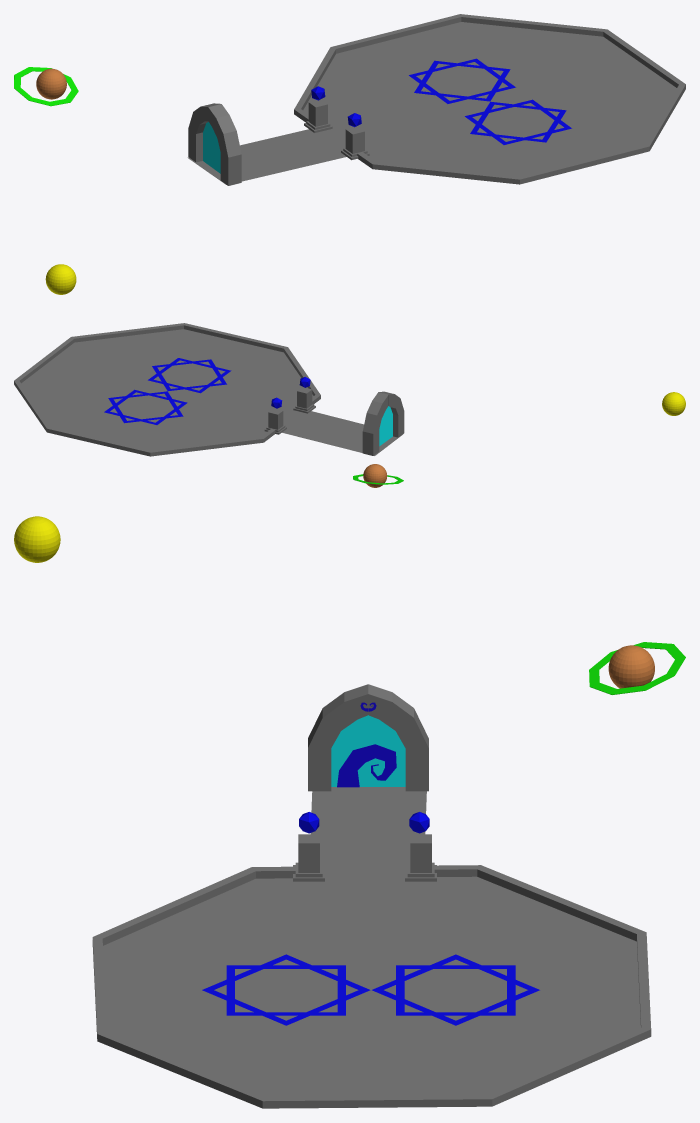
The model's file is Scenario.fbx.
The picture shows the model from 3 angles, top to bottom: view 1: azimuth 30°, elevation 25°; view 2: azimuth 150°, elevation 25°; view 3: azimuth 270°, elevation 25°; orthographic projection. The views are drawn at different scales.
Visible parts, largest first — view 1: Circle, Cube.002, Cube, Plane.004, Plane.003, Sphere, Sphere.001, Cone, Plane.001, Plane.002, Plane; view 2: Circle, Cube.002, Cube, Plane.003, Plane.004, Sphere.001, Sphere, Plane.002, Plane.001, Plane; view 3: Circle, Cube.002, Plane, Cube, Plane.003, Plane.004, Sphere.001, Sphere, Plane.005, Cone, Plane.002, Plane.001.
Part boxes in pixels (left/top/right/bottom): Circle: left=187, top=14, right=685, bottom=184; Cube.002: left=188, top=103, right=241, bottom=185; Cube: left=304, top=99, right=369, bottom=160; Plane.004: left=414, top=60, right=510, bottom=101; Plane.003: left=470, top=101, right=566, bottom=142; Sphere: left=36, top=68, right=66, bottom=99; Sphere.001: left=45, top=264, right=76, bottom=294; Cone: left=14, top=67, right=78, bottom=106; Plane.001: left=465, top=99, right=571, bottom=144; Plane.002: left=409, top=58, right=515, bottom=103; Plane: left=203, top=122, right=220, bottom=173; Circle: left=14, top=323, right=402, bottom=456; Cube.002: left=362, top=391, right=404, bottom=455; Cube: left=264, top=387, right=315, bottom=434; Plane.003: left=152, top=359, right=226, bottom=391; Plane.004: left=108, top=391, right=183, bottom=423; Sphere.001: left=662, top=392, right=685, bottom=415; Sphere: left=363, top=464, right=387, bottom=487; Plane.002: left=104, top=389, right=187, bottom=424; Plane.001: left=148, top=358, right=231, bottom=393; Plane: left=379, top=406, right=392, bottom=446; Circle: left=92, top=787, right=651, bottom=1108; Cube.002: left=308, top=684, right=428, bottom=791; Plane: left=331, top=715, right=405, bottom=786; Cube: left=293, top=834, right=436, bottom=881; Plane.003: left=202, top=954, right=370, bottom=1025; Plane.004: left=372, top=954, right=539, bottom=1025; Sphere.001: left=14, top=516, right=60, bottom=562; Sphere: left=608, top=645, right=654, bottom=688; Plane.005: left=337, top=744, right=396, bottom=787; Cone: left=589, top=642, right=685, bottom=694; Plane.002: left=396, top=965, right=515, bottom=1015; Plane.001: left=226, top=965, right=345, bottom=1015.
Bounding box in the file's own units: 5339 × 488 × 2881.
